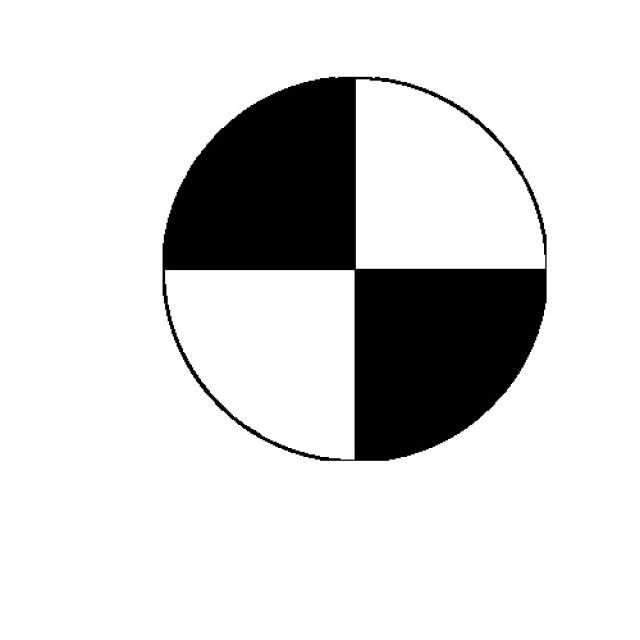Marcadores: (161, 75, 548, 460)
